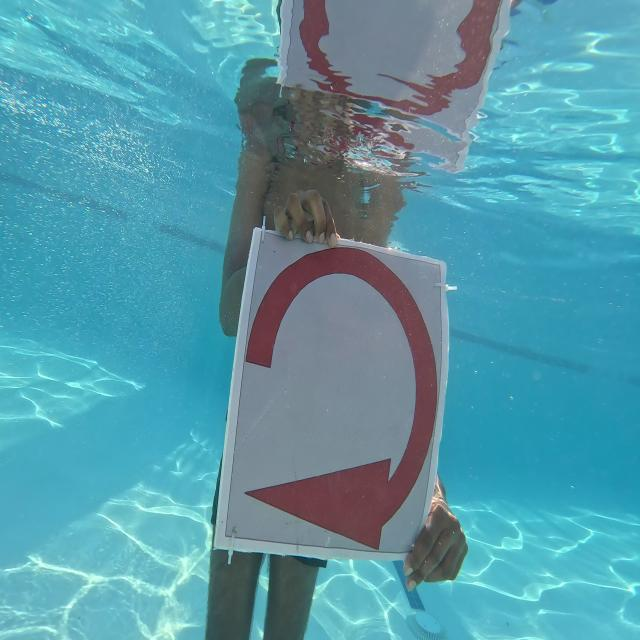red_side: (239, 244, 447, 554)
